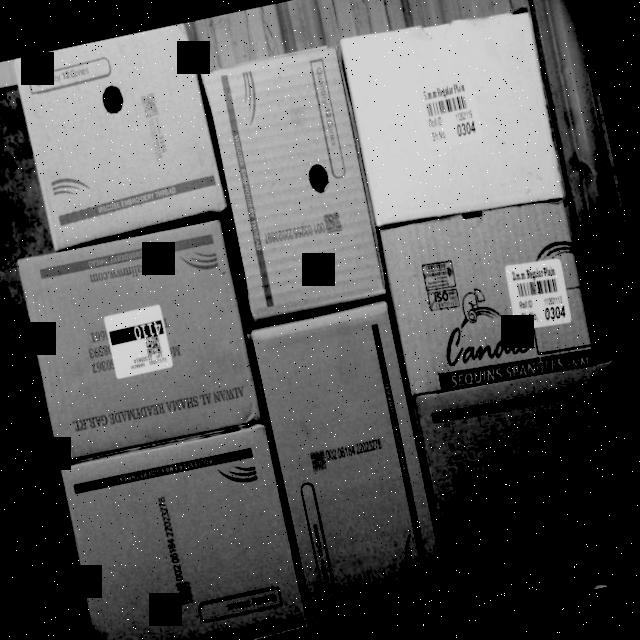box: (245, 301, 452, 633), (14, 212, 267, 458), (409, 355, 640, 604), (60, 418, 309, 640), (198, 44, 390, 326), (333, 0, 567, 227), (12, 21, 230, 251), (372, 190, 604, 394)
